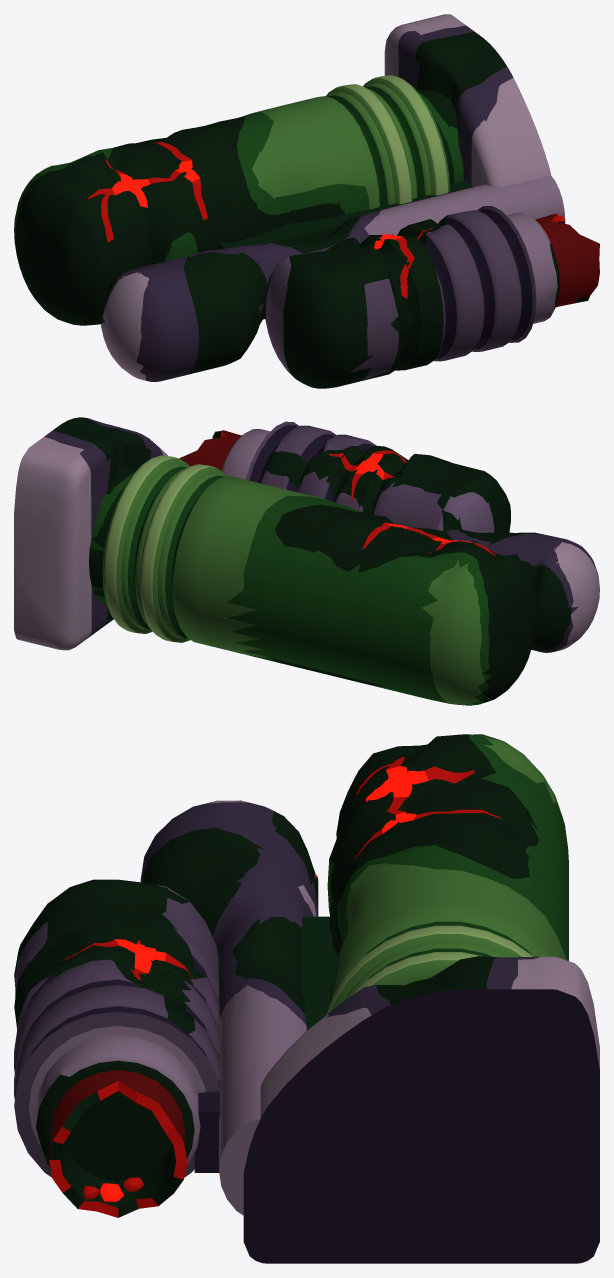
The model's file is tank_pod_dmg_left.glb.
The picture shows the model from 3 angles, top to bottom: view 1: azimuth 30°, elevation 25°; view 2: azimuth 150°, elevation 25°; view 3: azimuth 270°, elevation 25°; orthographic projection. The views are drawn at different scales.
Parts seen in each view (by area): view 1: tank_l.001, coil_l.001, rail_l.001, block.001, stump_l.001, web_tank_l.001, cracks_tank_l.001, cracks_coil_l.001; view 2: tank_l.001, block.001, coil_l.001, rail_l.001, stump_l.001, cracks_coil_l.001, cracks_tank_l.001; view 3: block.001, tank_l.001, coil_l.001, rail_l.001, stump_l.001, web_tank_l.001, cracks_tank_l.001, web_coil_l.001, cracks_coil_l.001.
Part boxes in pixels (left/top/right/bottom): tank_l.001: left=14, top=75, right=463, bottom=325; coil_l.001: left=264, top=206, right=560, bottom=388; rail_l.001: left=100, top=175, right=565, bottom=381; block.001: left=384, top=14, right=551, bottom=186; stump_l.001: left=535, top=213, right=599, bottom=307; web_tank_l.001: left=218, top=180, right=473, bottom=249; cracks_tank_l.001: left=87, top=142, right=207, bottom=242; cracks_coil_l.001: left=374, top=227, right=433, bottom=298; tank_l.001: left=89, top=455, right=537, bottom=705; block.001: left=14, top=417, right=167, bottom=650; coil_l.001: left=221, top=421, right=510, bottom=532; rail_l.001: left=444, top=529, right=599, bottom=652; stump_l.001: left=179, top=430, right=241, bottom=470; cracks_coil_l.001: left=329, top=450, right=406, bottom=499; cracks_tank_l.001: left=362, top=522, right=497, bottom=555; block.001: left=243, top=956, right=599, bottom=1263; tank_l.001: left=326, top=734, right=568, bottom=1014; coil_l.001: left=14, top=879, right=219, bottom=1180; rail_l.001: left=140, top=800, right=318, bottom=1215; stump_l.001: left=49, top=1070, right=187, bottom=1217; web_tank_l.001: left=302, top=916, right=338, bottom=1030; cracks_tank_l.001: left=355, top=757, right=501, bottom=858; web_coil_l.001: left=194, top=1026, right=220, bottom=1172; cracks_coil_l.001: left=65, top=939, right=194, bottom=980.
Size of the model in its own units: 23.6 by 9.56 by 18.
